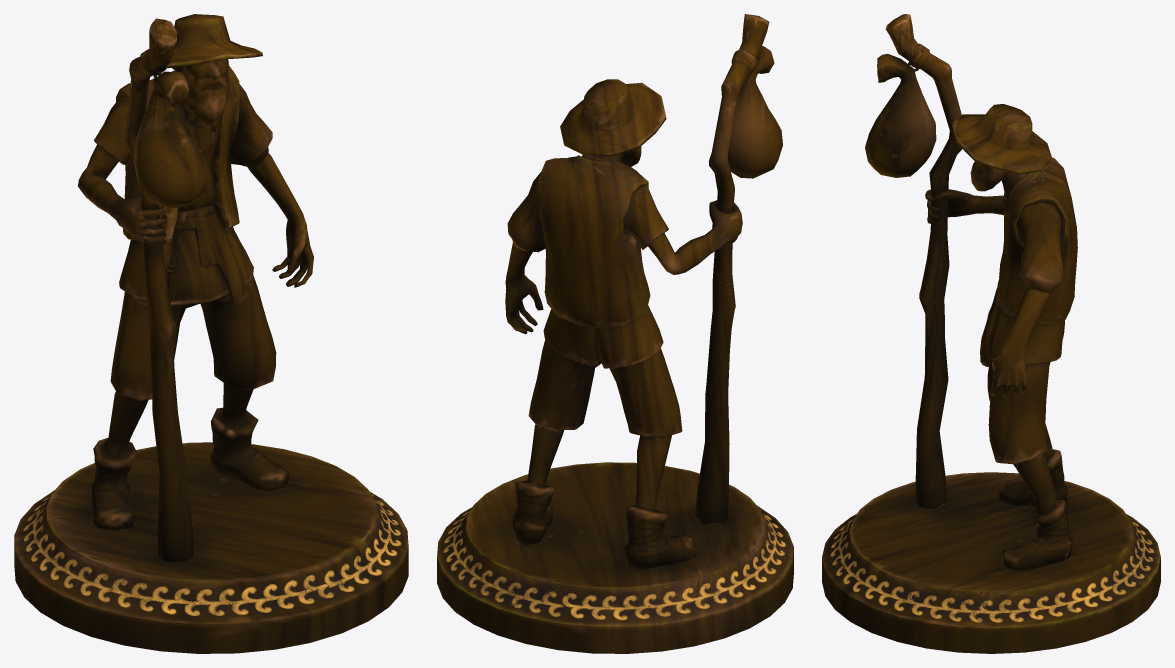
The model's file is figurka.fbx.
3 views of the same model, side by side, from view 1: azimuth 30°, elevation 25°; view 2: azimuth 150°, elevation 25°; view 3: azimuth 270°, elevation 25° (orthographic). The views are drawn at different scales.
Visible parts, largest first — view 1: figurka; view 2: figurka; view 3: figurka.
Boxes of the visible parts, x1,y1,x2,y2 form: figurka: [14, 14, 408, 653]; figurka: [437, 14, 793, 653]; figurka: [822, 14, 1160, 653].
Bounding box in the file's own units: 0.0304 × 0.052 × 0.0304.
1 material, 1 textured.
